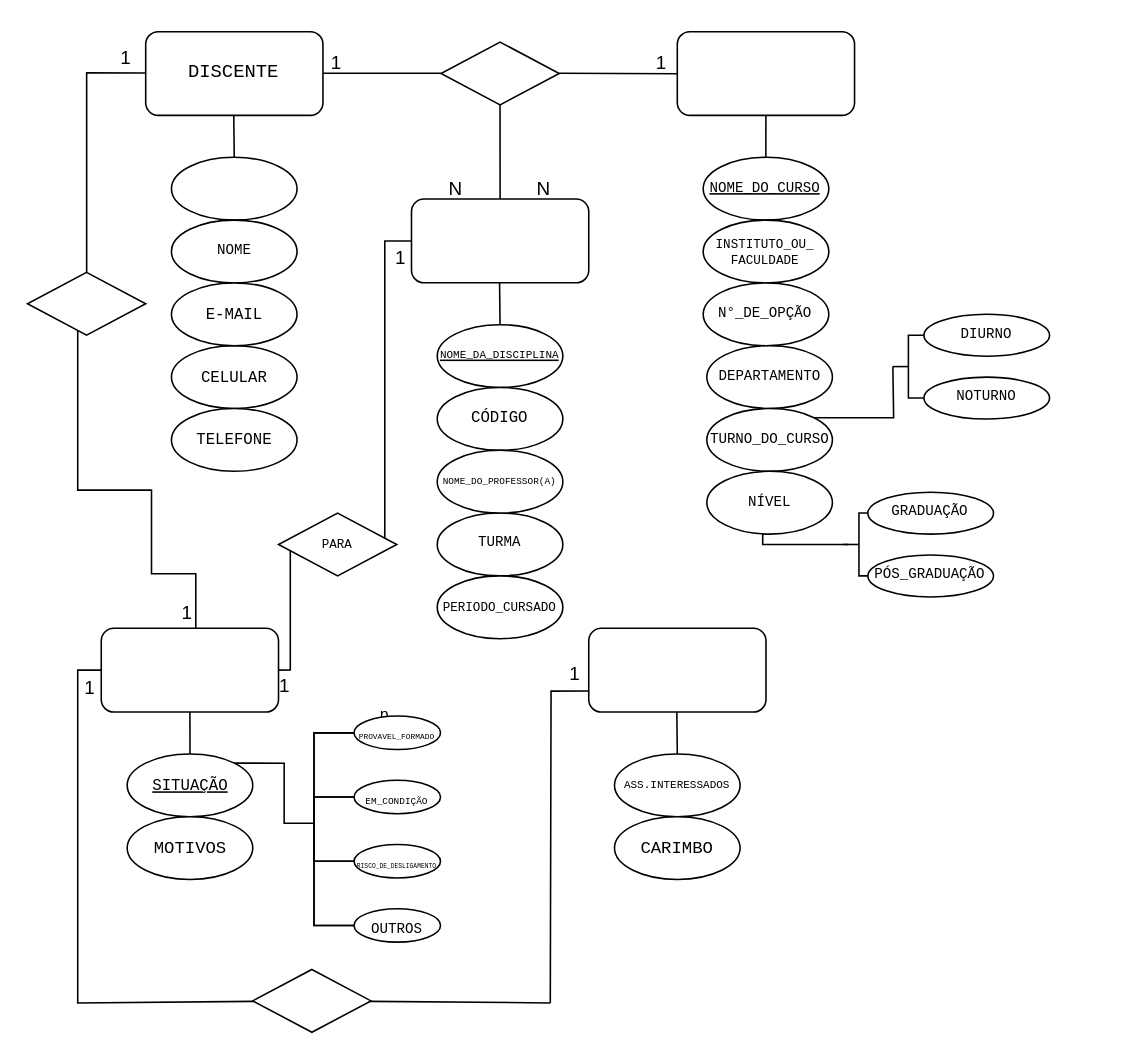
Some shapes in this 1140 by 1060 pixel diagram are drawn without their labels. The centre of each missing label's shape, as x and y in pixels:
"COORDENAÇÃO" belongs at point 676,669.
"CURSO" belongs at point 765,72.
"DISCIPLICA" belongs at point 499,240.
"FAZ" belongs at point 86,303.
"MATRICULA" belongs at point 233,188.
"MATRICULADO" belongs at point 499,73.
"PROCESSA" belongs at point 311,1000.
"SOLICITAÇÃO" belongs at point 189,669.
